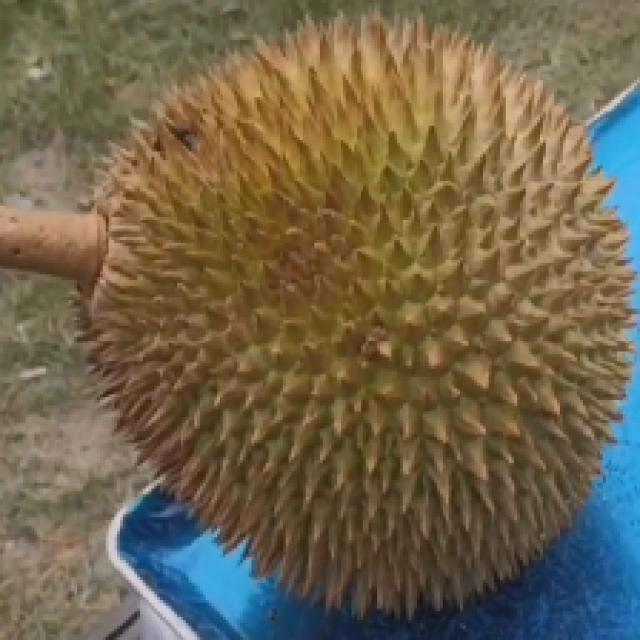d24: (12, 34, 611, 572)
